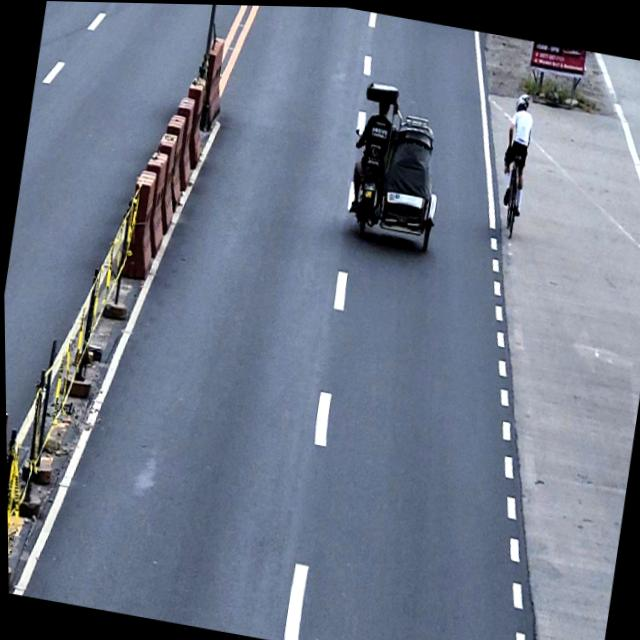Bicycle: (498, 151, 527, 238)
License-Plate: (362, 178, 377, 191)
Tricycle: (338, 76, 455, 252)
